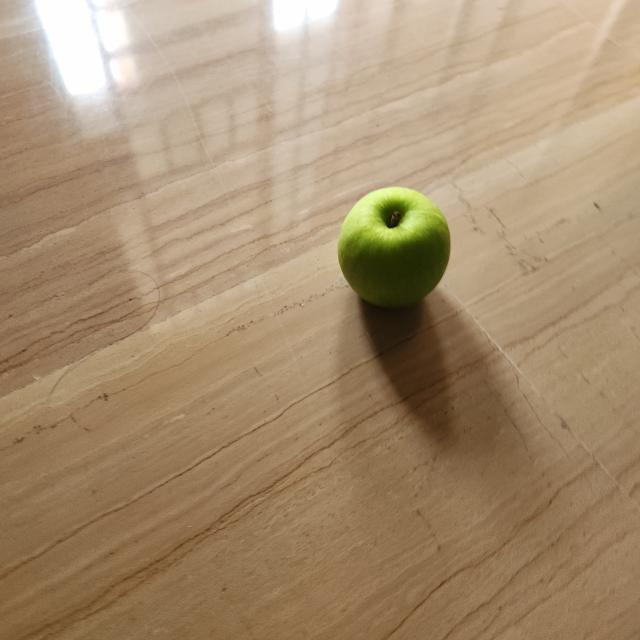apple: (336, 182, 454, 319)
